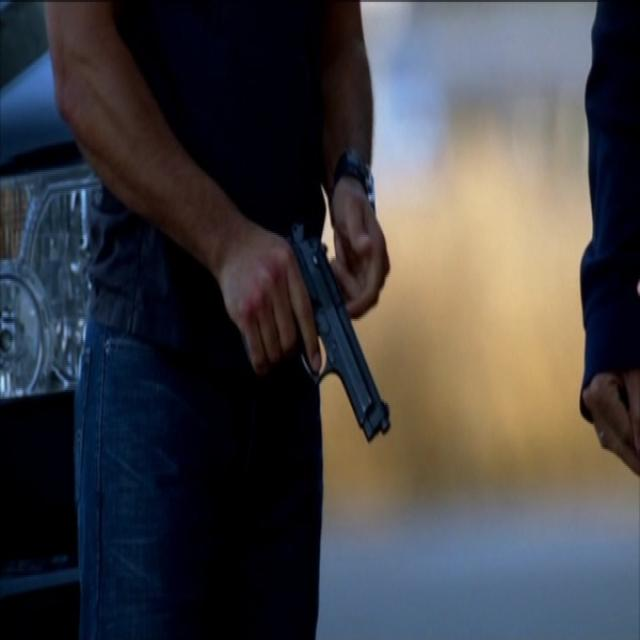weapons: (250, 175, 400, 469)
